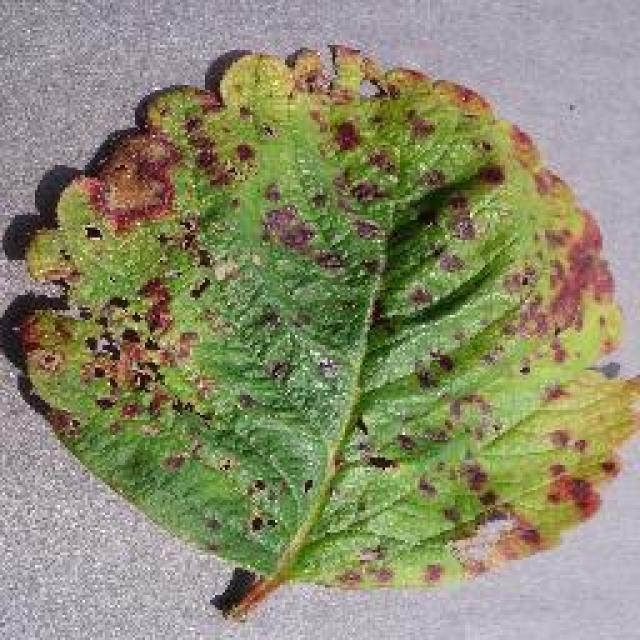Strawberry___Leaf_scorch: (0, 18, 640, 638)
